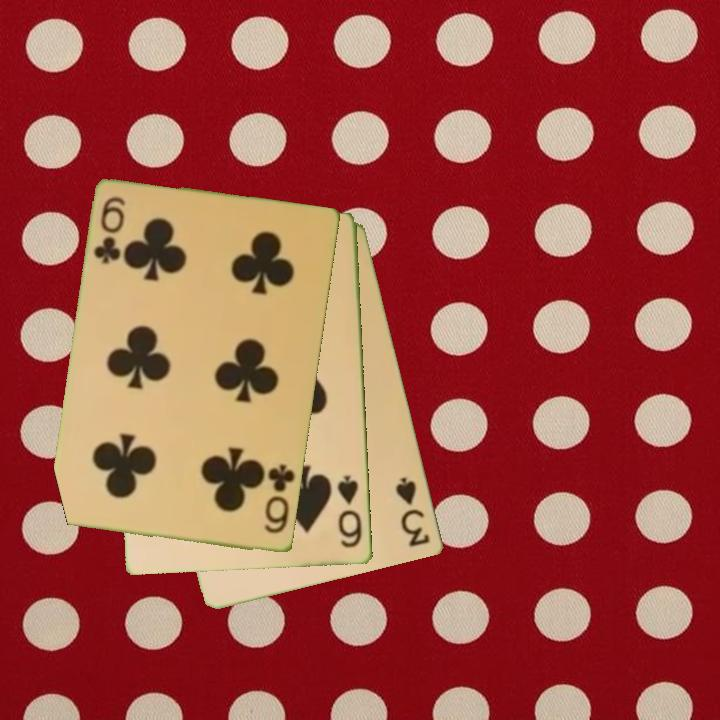3s: (392, 473, 433, 551)
6c: (90, 193, 129, 268), (261, 461, 298, 537)
6s: (334, 472, 365, 551)
